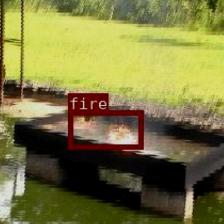fire: (67, 110, 142, 148)
